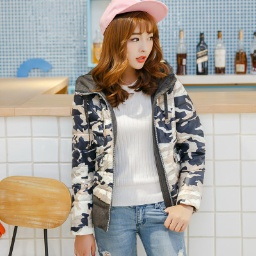face: (96, 13, 174, 91)
